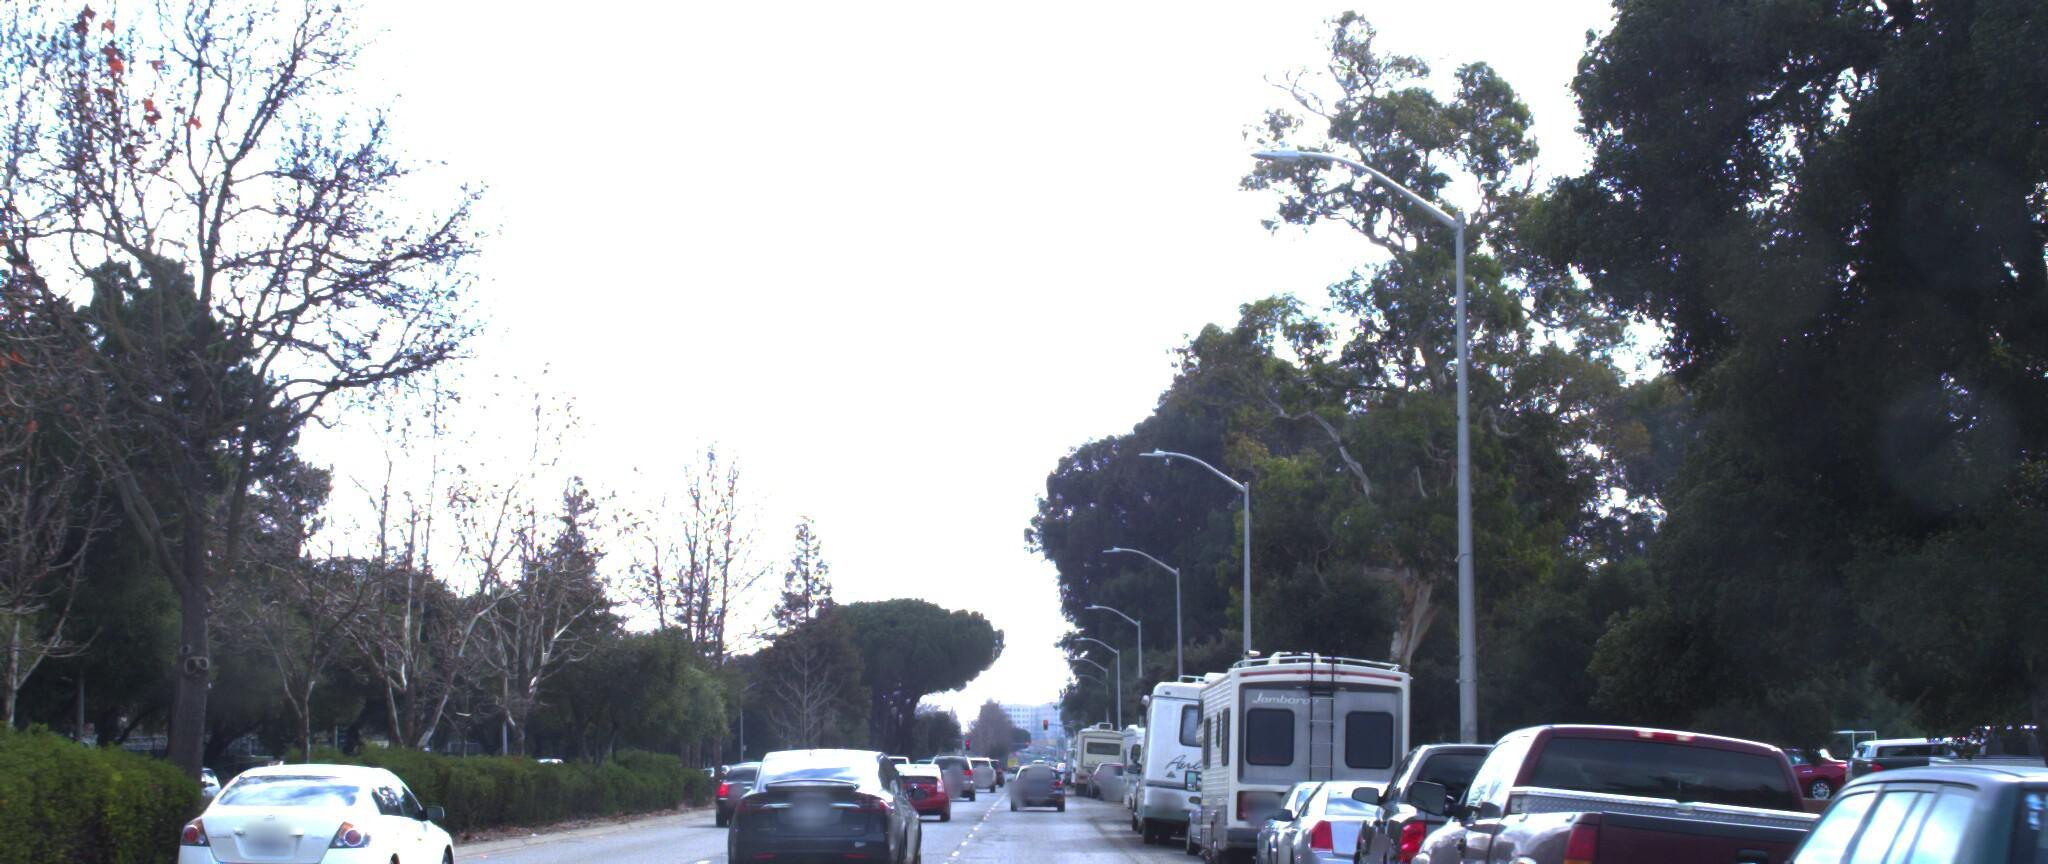car: (1365, 673, 1974, 864), (1610, 727, 2048, 864), (1323, 710, 1657, 864), (168, 730, 469, 864), (1250, 753, 1496, 864), (721, 733, 929, 864), (1226, 750, 1433, 864), (697, 733, 808, 814), (889, 744, 978, 814)
other_vehicle: (1172, 615, 1421, 857), (1117, 649, 1305, 831)
